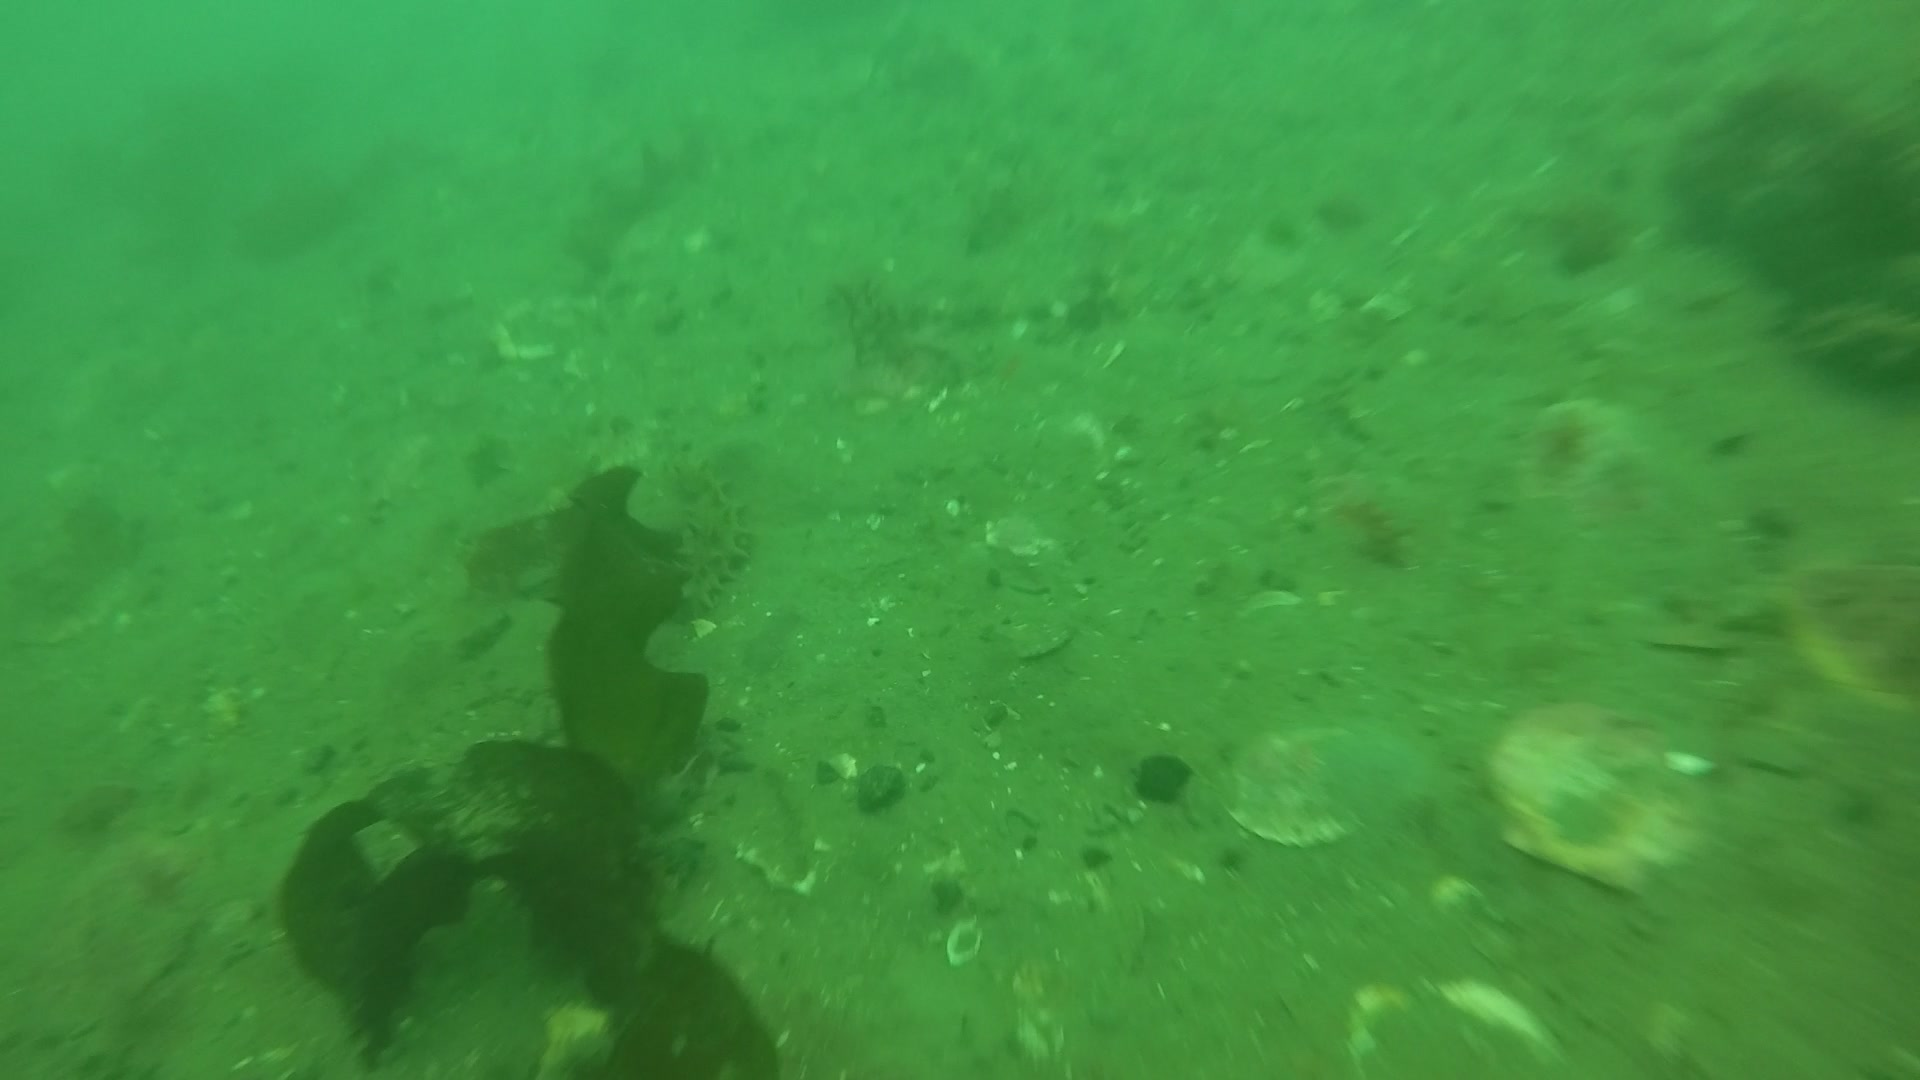holothurian: (669, 450, 749, 607)
scallop: (1490, 704, 1702, 899), (1215, 717, 1444, 843)
